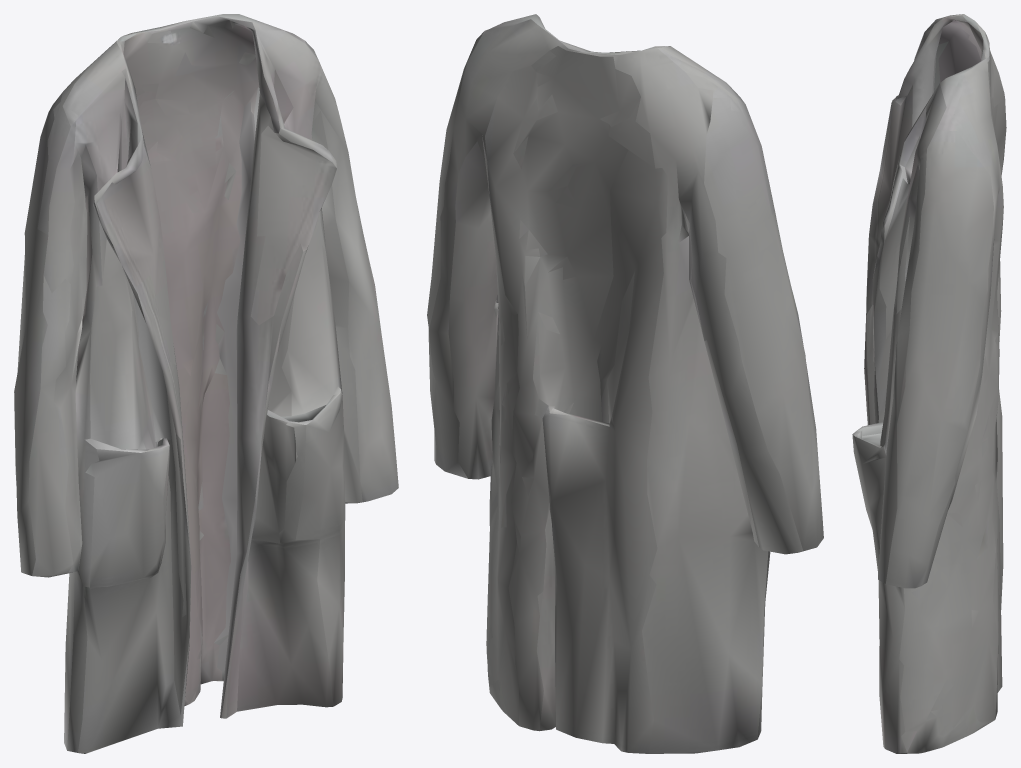
File: casacos-basic.glb
3 renders of one model, left to right at view 1: azimuth 30°, elevation 25°; view 2: azimuth 150°, elevation 25°; view 3: azimuth 270°, elevation 25°, orthographic. The views are drawn at different scales.
Visible parts, largest first — view 1: textured_mesh; view 2: textured_mesh; view 3: textured_mesh.
Part boxes in pixels (bbox=[...]): textured_mesh: bbox=[14, 14, 398, 753]; textured_mesh: bbox=[427, 14, 823, 753]; textured_mesh: bbox=[852, 14, 1006, 753].
Size of the model in its own units: 1.14 by 1.99 by 0.4259.
1 material, 1 textured.
